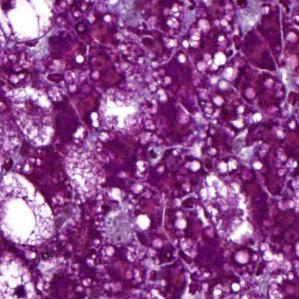ballooning: (2, 172, 55, 246), (2, 2, 54, 46), (3, 250, 40, 299)
